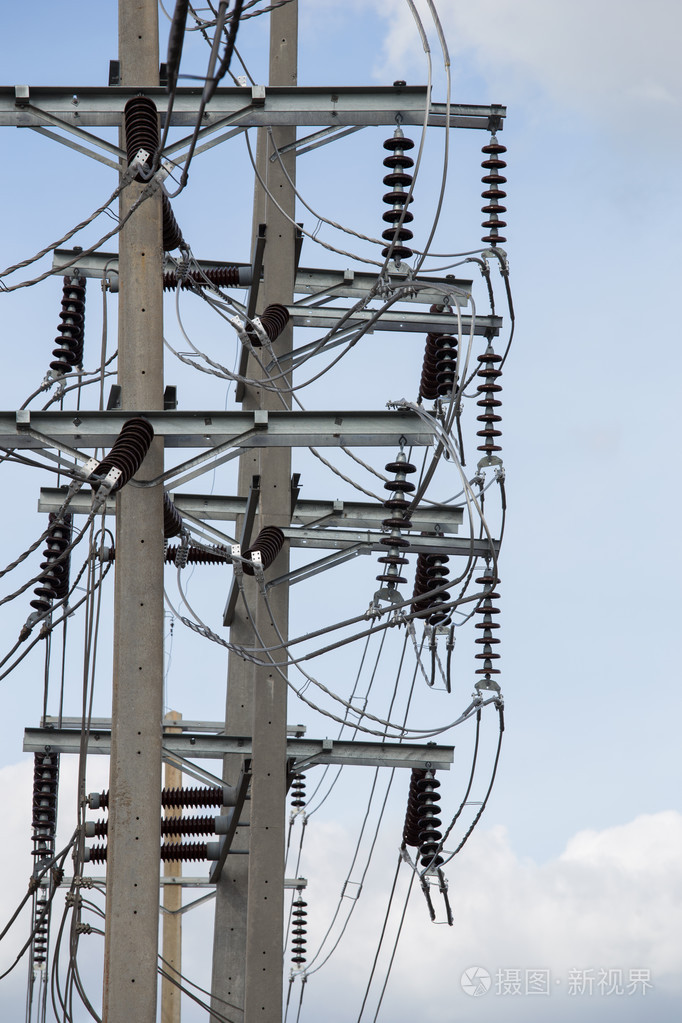insulator: (375, 456, 416, 584), (88, 417, 155, 495), (27, 516, 77, 619), (376, 133, 415, 261), (48, 273, 87, 376), (29, 751, 65, 858), (118, 93, 163, 178), (410, 778, 449, 871), (476, 351, 508, 459), (479, 143, 511, 244), (473, 574, 502, 673), (421, 550, 451, 629), (30, 896, 58, 967), (434, 329, 459, 398), (289, 897, 312, 968), (287, 766, 308, 809)
